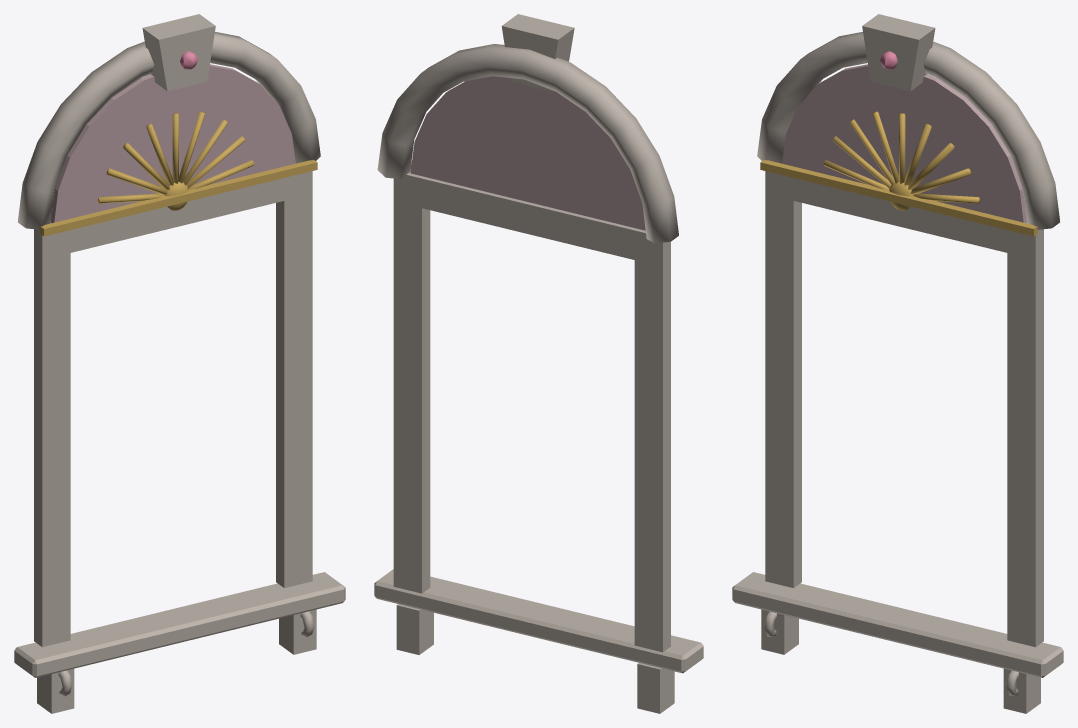
File: facade_surround_arch.glb
3 views of the same model, side by side, from view 1: azimuth 30°, elevation 25°; view 2: azimuth 150°, elevation 25°; view 3: azimuth 330°, elevation 25° (orthographic).
Visible parts, largest first — view 1: facade_surround_arch; view 2: facade_surround_arch; view 3: facade_surround_arch.
Boxes of the visible parts, x1,y1,x2,y2 form: facade_surround_arch: (14, 14, 345, 713); facade_surround_arch: (374, 14, 703, 713); facade_surround_arch: (732, 14, 1063, 713).
Size of what is drawn, in the model's own units: 2.2 by 4.37 by 0.39.
